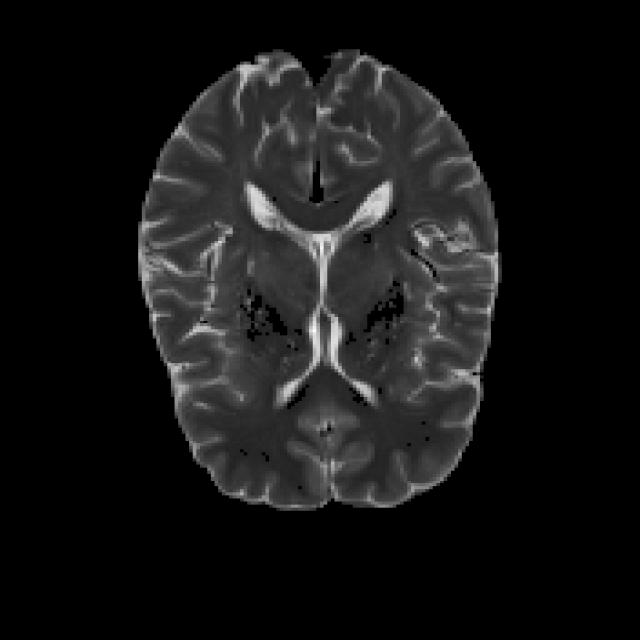parkinson: (134, 46, 502, 511)
